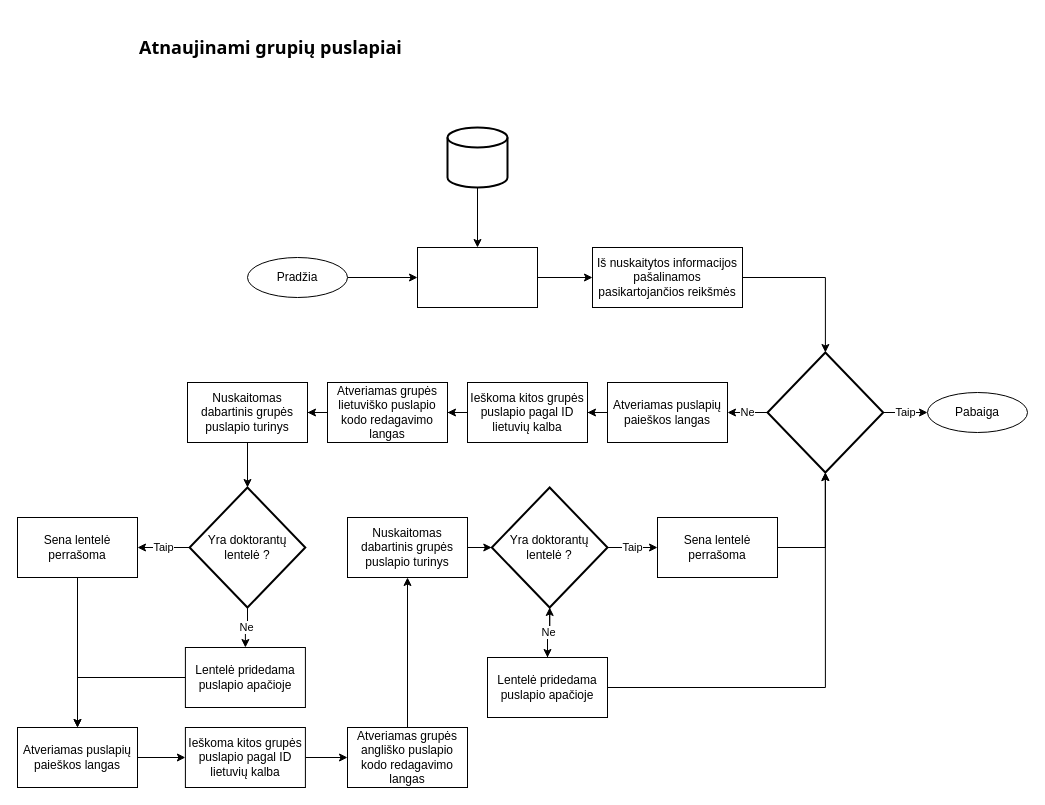
Image size: 1045x805. Some labels were removed from this diagram. Here are the shapes that lost their labels. From the top down, the box of each, then its label:
(416, 246, 538, 308): Nuskaitoma lietuviška ir angliška grupių informacija
(766, 351, 884, 473): Atnaujinta visų grupių informacija?
